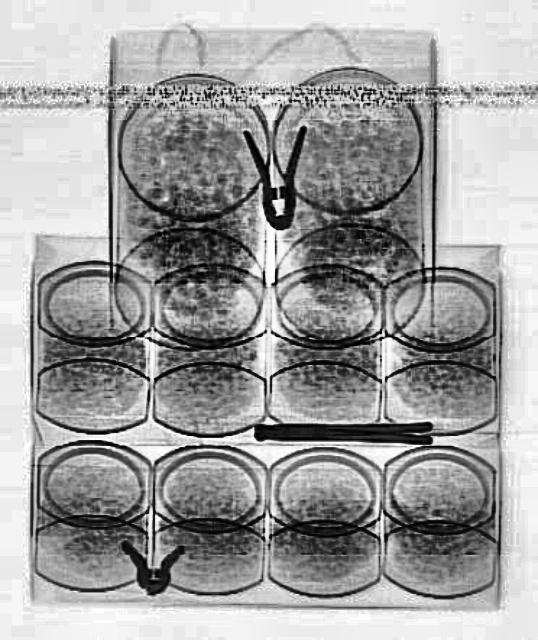Pliers: (242, 124, 310, 230), (252, 417, 430, 445)
